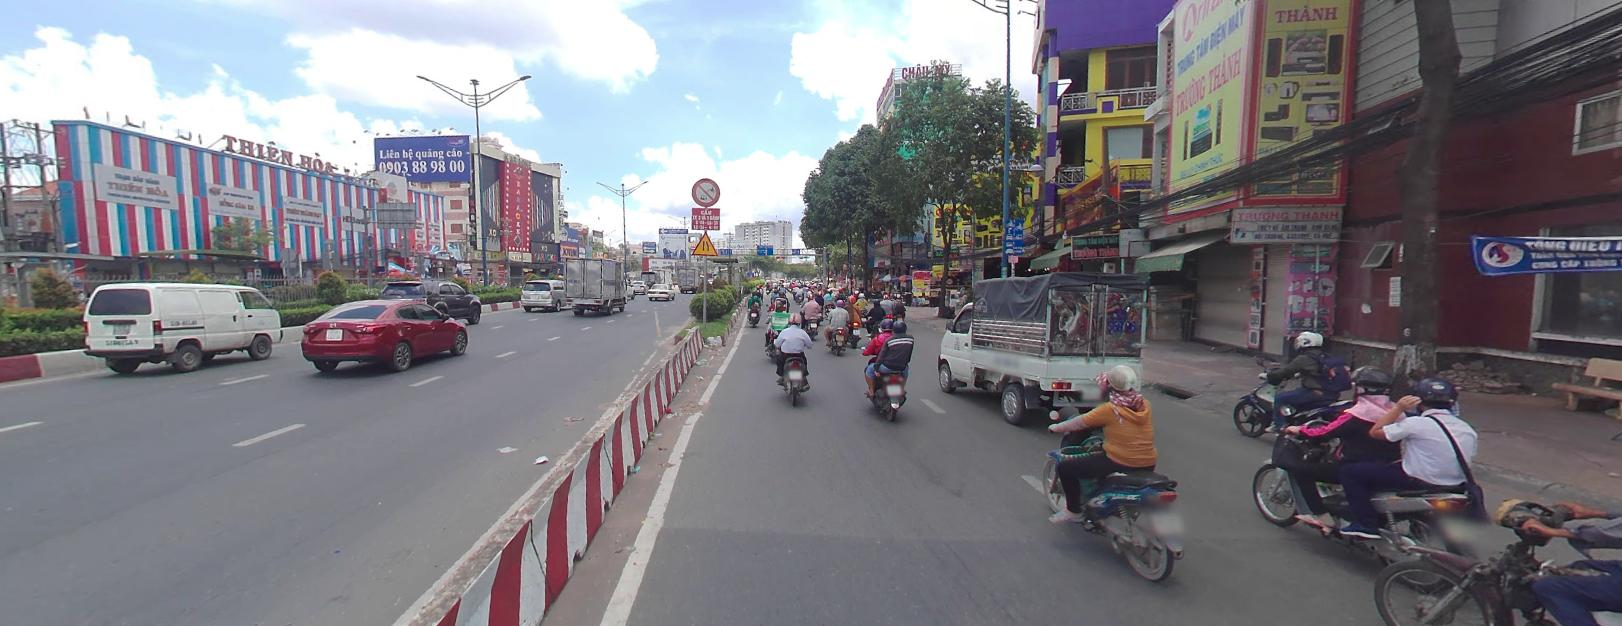Cam con lai: (691, 177, 719, 205), (692, 177, 720, 204)
Nguy hiem: (691, 230, 717, 254), (691, 231, 718, 254)
